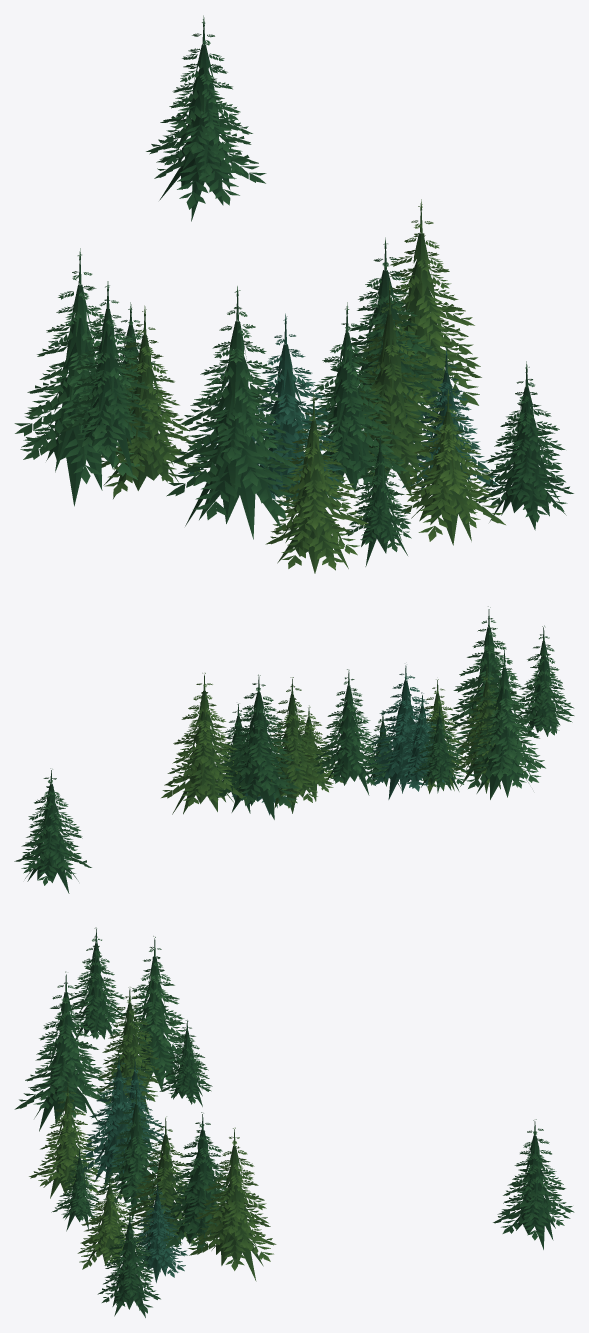
The picture shows the model from 3 angles, top to bottom: view 1: azimuth 30°, elevation 25°; view 2: azimuth 150°, elevation 25°; view 3: azimuth 270°, elevation 25°; orthographic projection. The views are drawn at different scales.
Parts seen in each view (by area): view 1: pn_23; view 2: pn_23; view 3: pn_23.
Boxes of the visible parts, <box> form: pn_23: <box>14,15,573,573</box>; pn_23: <box>14,606,574,893</box>; pn_23: <box>14,927,574,1317</box>.
Bounding box in the file's own units: 40.64 × 27.27 × 56.07.
Materials: 1 (1 with a texture image).
